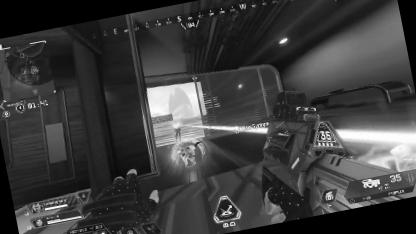Target: (169, 118, 183, 141)
